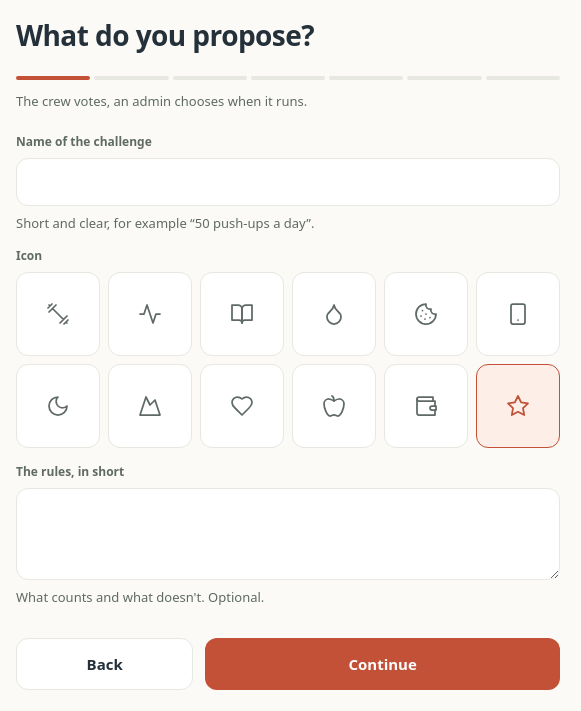
Test: proposing › asks for a name before moving on
Click the button "Continue".
click(383, 664)  # box [205,638,560,690]
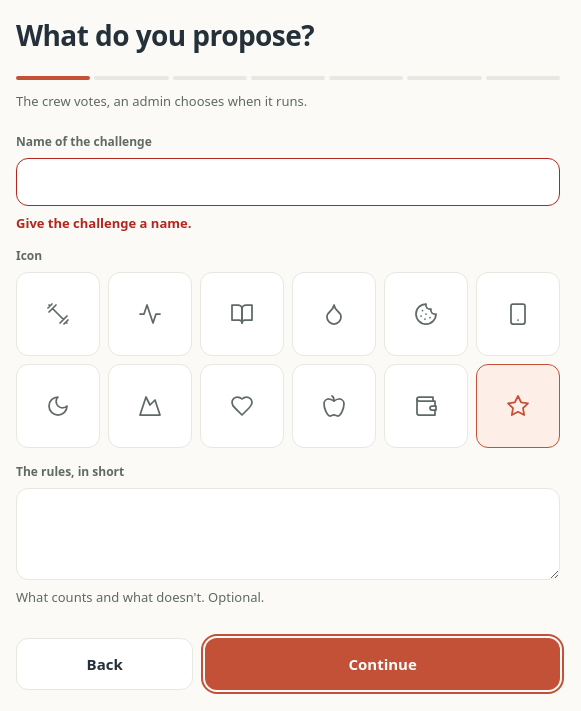
expect the heading "What do you propose?" is shown: met, box [16,16,314,54]
expect the text "Give the challenge a name." is shown: met, box [16,214,191,232]
